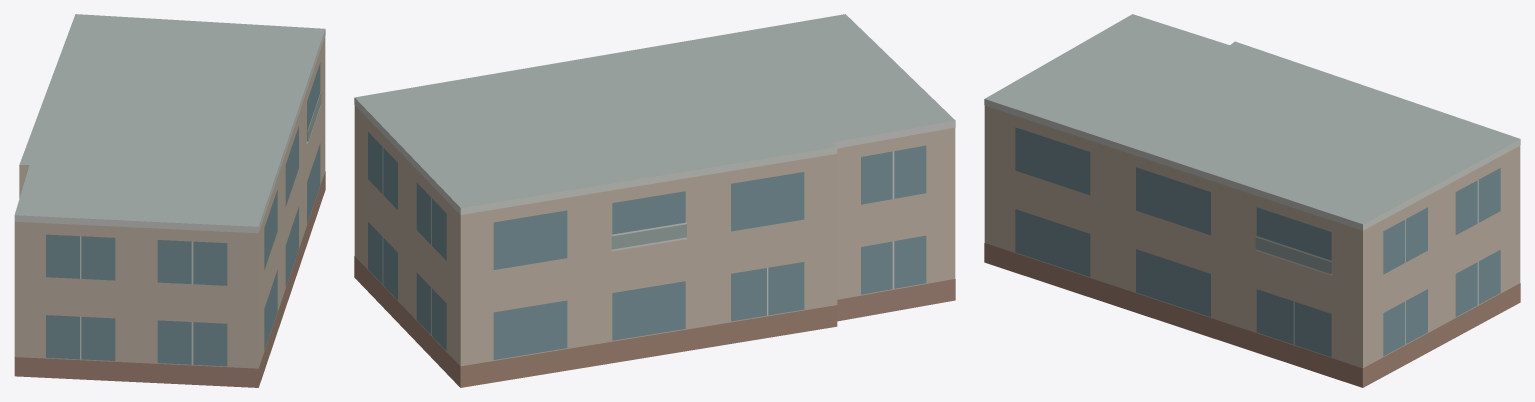
The model's file is survey-upis-32885553.glb.
The picture shows the model from 3 angles, left to right: view 1: azimuth 30°, elevation 25°; view 2: azimuth 150°, elevation 25°; view 3: azimuth 270°, elevation 25°; orthographic projection. The views are drawn at different scales.
Parts seen in each view (by area): view 1: survey-upis-32885553.tmp; view 2: survey-upis-32885553.tmp; view 3: survey-upis-32885553.tmp.
Boxes of the visible parts, <box> form: survey-upis-32885553.tmp: <box>14,14,325,387</box>; survey-upis-32885553.tmp: <box>354,14,955,387</box>; survey-upis-32885553.tmp: <box>984,14,1520,387</box>.
Size of the model in its own units: 16.83 by 6.1 by 18.12.
